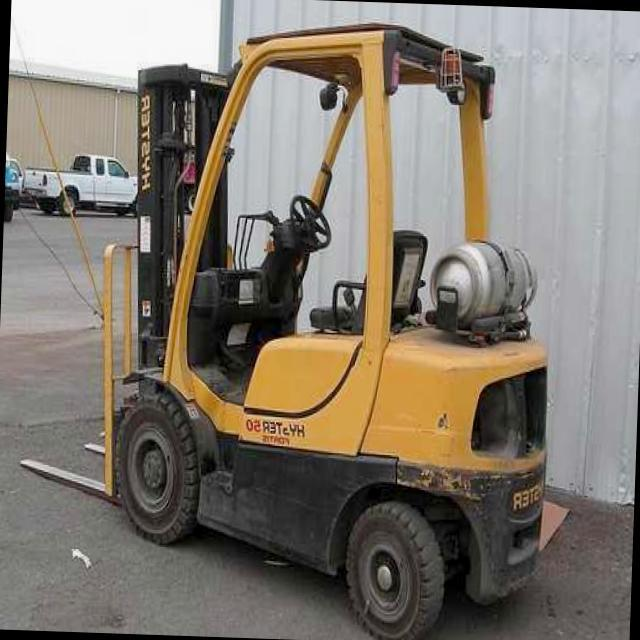forklift: (98, 11, 562, 640)
